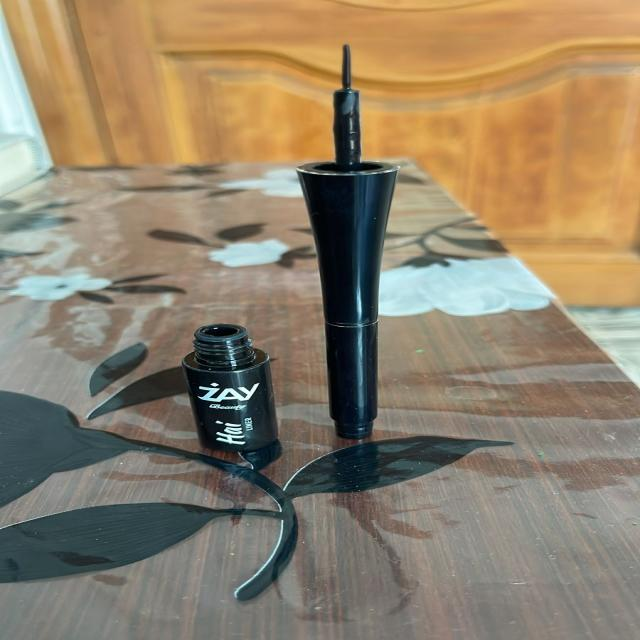lip gloss: (281, 27, 438, 451)
